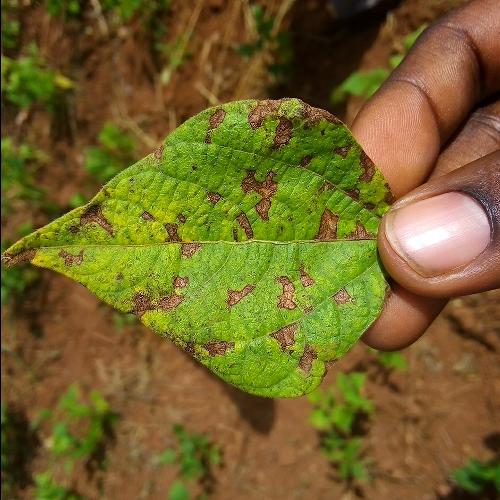hawar: (208, 283, 352, 386), (190, 168, 288, 270), (300, 172, 393, 272), (200, 105, 328, 160), (122, 269, 194, 343), (70, 190, 122, 263), (132, 194, 188, 256)
